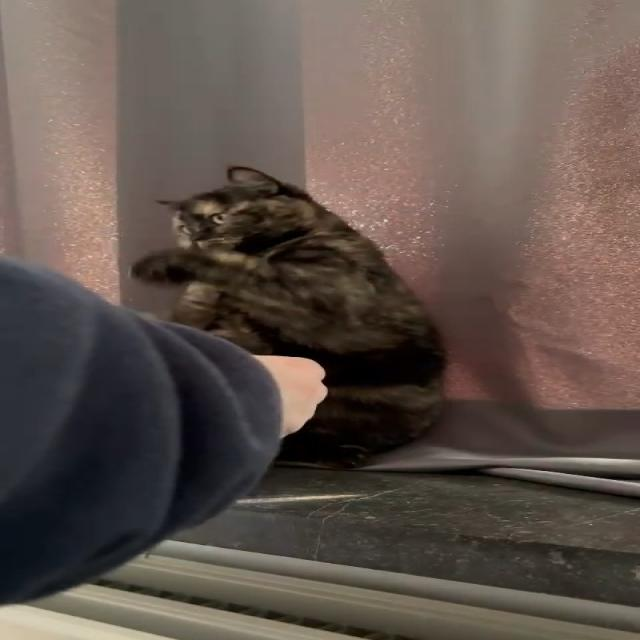authorized: (128, 164, 448, 470)
